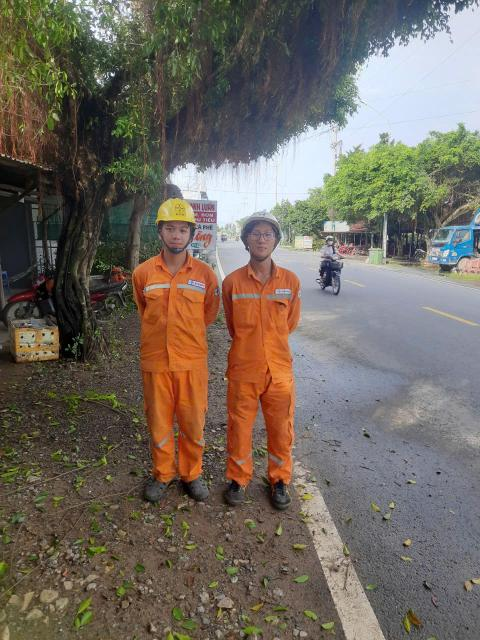helmet: (149, 191, 202, 240), (246, 201, 287, 257)
shoes: (136, 469, 175, 508), (181, 471, 215, 507), (218, 478, 252, 509), (268, 476, 298, 509)
